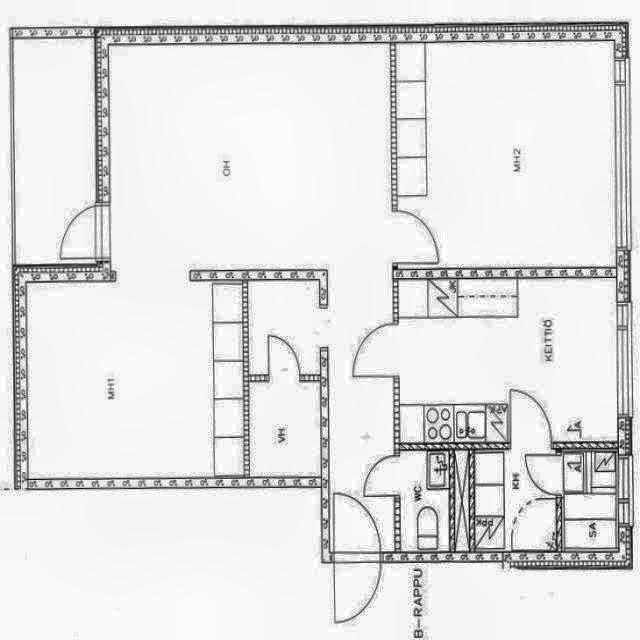room: (397, 41, 615, 268), (399, 278, 617, 442), (475, 450, 556, 550), (250, 382, 321, 476), (564, 450, 618, 550), (400, 452, 449, 551)
